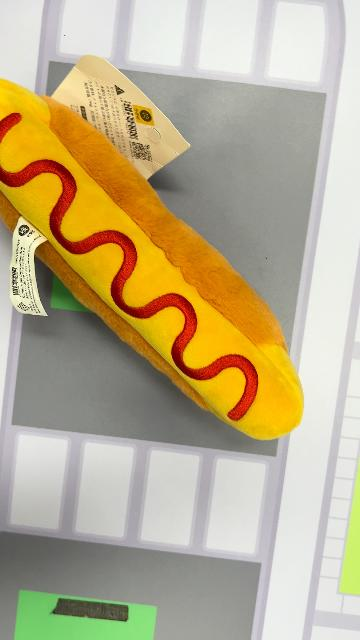hotdog: (1, 78, 306, 442)
